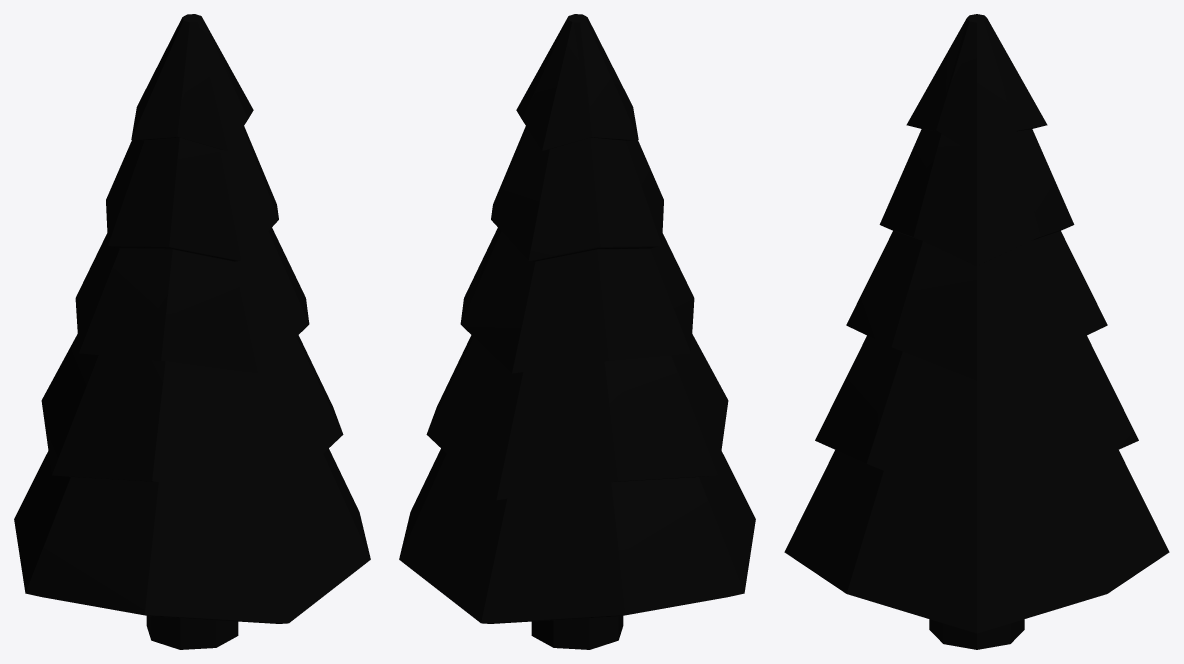
File: TreeWithSnow.obj
3 views of the same model, side by side, from view 1: azimuth 30°, elevation 25°; view 2: azimuth 150°, elevation 25°; view 3: azimuth 270°, elevation 25° (orthographic).
Size of the model in its own units: 6.65 by 11.65 by 6.65.
Materials: 1 (1 with a texture image).
